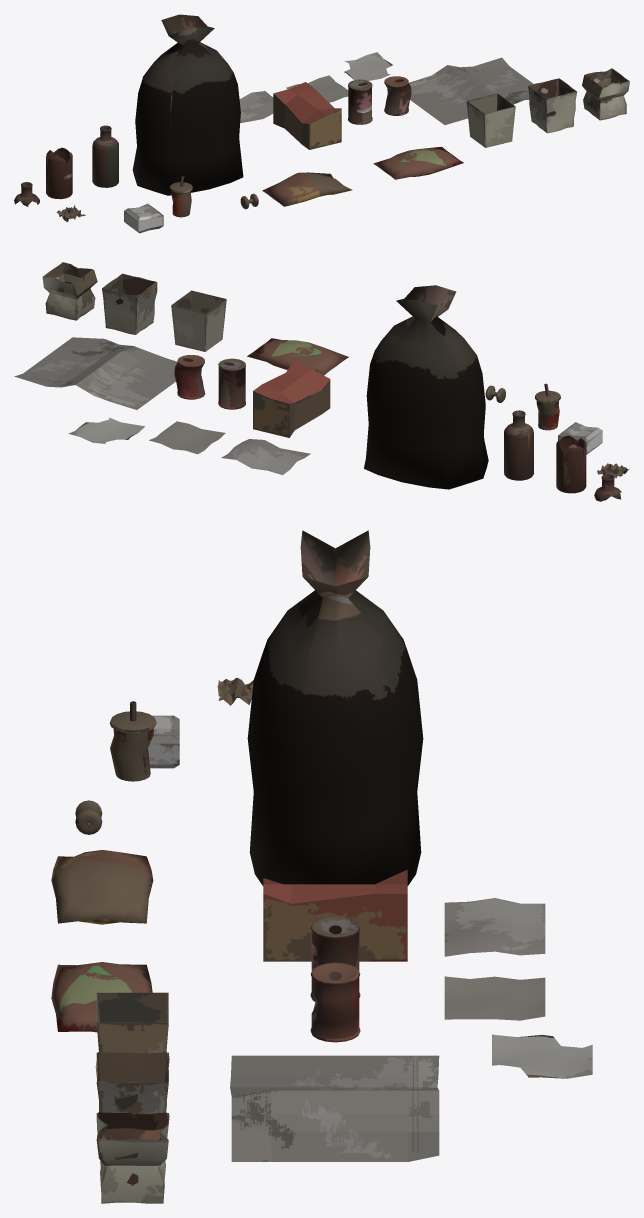
Rendered from Citygarbadge.fbx.
3 renders of one model, top to bottom at view 1: azimuth 30°, elevation 25°; view 2: azimuth 150°, elevation 25°; view 3: azimuth 270°, elevation 25°, orthographic. The views are drawn at different scales.
Visible parts, largest first — view 1: Cube.013, Plane, Cube.012, Cube.017, Cube.016, Cube.018, Cube.015, Cube.014, Cylinder.003, Cylinder.004, Cylinder.001, Plane.003 (+6 smaller); view 2: Cube.013, Plane, Cube.012, Cube.017, Cube.016, Cube.018, Cube.014, Cylinder.003, Plane.002, Cylinder.004, Plane.001, Cylinder.001 (+5 smaller); view 3: Cube.013, Plane, Cube.012, Cube.015, Cube.018, Plane.002, Cube.014, Cube.016, Cube.017, Plane.001, Cylinder.002, Plane.003 (+3 smaller).
Part boxes in pixels (<box>): Cube.013: <box>132,14,243,195</box>; Plane: <box>409,57,533,124</box>; Cube.012: <box>273,82,341,149</box>; Cube.017: <box>528,78,577,133</box>; Cube.016: <box>466,93,515,147</box>; Cube.018: <box>582,68,629,120</box>; Cube.015: <box>262,172,352,206</box>; Cube.014: <box>373,146,463,179</box>; Cylinder.003: <box>92,125,118,187</box>; Cylinder.004: <box>46,147,72,199</box>; Cylinder.001: <box>348,79,372,124</box>; Plane.003: <box>344,52,392,80</box>; Cube.013: <box>364,285,488,489</box>; Plane: <box>14,337,177,409</box>; Cube.012: <box>253,361,330,437</box>; Cube.017: <box>102,273,157,334</box>; Cube.016: <box>171,290,226,351</box>; Cube.018: <box>42,262,97,320</box>; Cube.014: <box>247,338,348,375</box>; Cylinder.003: <box>504,410,533,480</box>; Plane.002: <box>221,439,310,474</box>; Cylinder.004: <box>556,435,586,493</box>; Plane.001: <box>149,421,225,454</box>; Cylinder.001: <box>218,358,245,409</box>; Cube.013: <box>247,530,423,885</box>; Plane: <box>230,1055,439,1161</box>; Cube.012: <box>263,869,407,961</box>; Cube.015: <box>51,850,153,924</box>; Cube.018: <box>96,1112,169,1203</box>; Plane.002: <box>444,898,545,956</box>; Cube.014: <box>51,962,152,1032</box>; Cube.016: <box>96,992,168,1052</box>; Cube.017: <box>95,1052,169,1113</box>; Plane.001: <box>444,976,545,1020</box>; Cylinder.002: <box>310,962,360,1042</box>; Plane.003: <box>492,1034,592,1078</box>.
Bounding box in the file's own units: 9.04 × 2.38 × 3.81.
